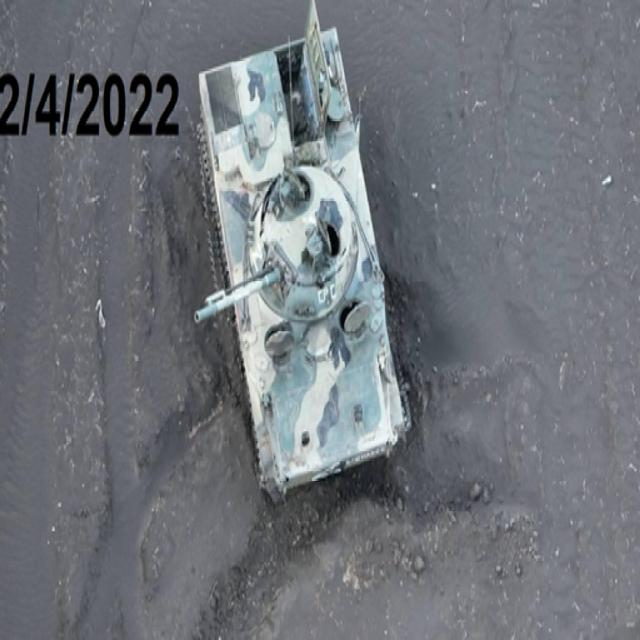APC-IFV: (188, 2, 422, 516)
